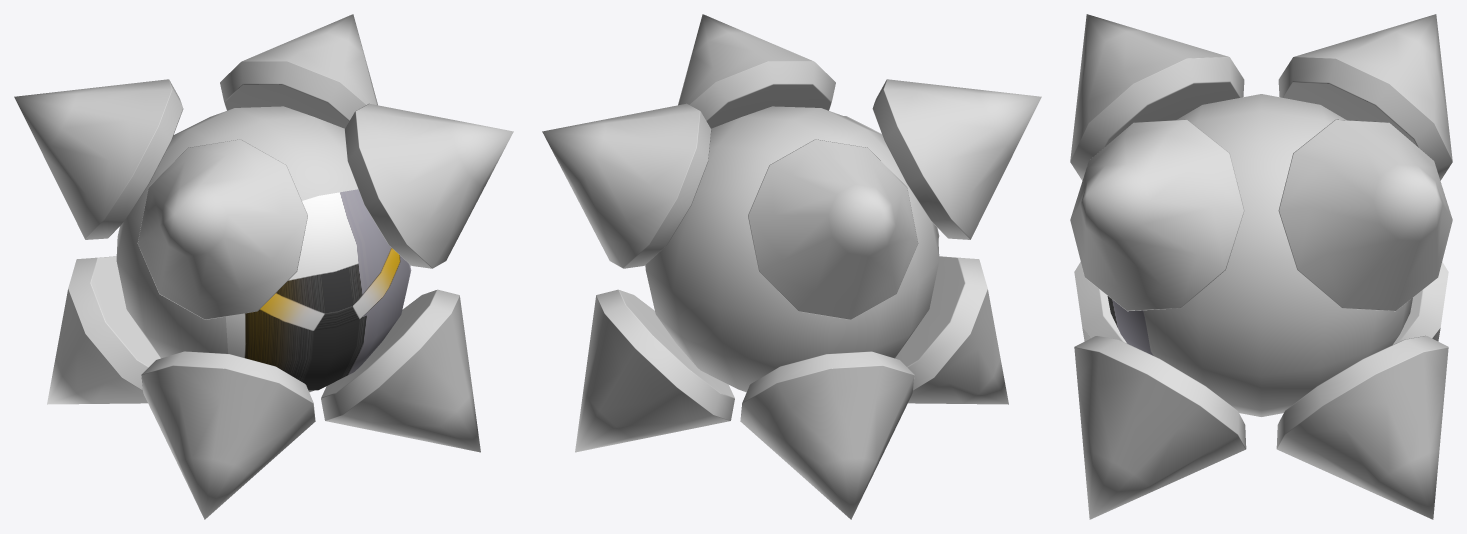
The model's file is EnemyThree_explosive.fbx.
The picture shows the model from 3 angles, left to right: view 1: azimuth 30°, elevation 25°; view 2: azimuth 150°, elevation 25°; view 3: azimuth 270°, elevation 25°; orthographic projection. The views are drawn at different scales.
Visible parts, largest first — view 1: body, face; view 2: body; view 3: body, face.
Part boxes in pixels (x1,y1,x2,y2): body: (14, 14, 513, 519); face: (225, 189, 411, 390); body: (542, 14, 1041, 519); body: (1070, 14, 1452, 519); face: (1107, 296, 1153, 355).
Size of the model in its own units: 1.72 by 1.59 by 1.54.
